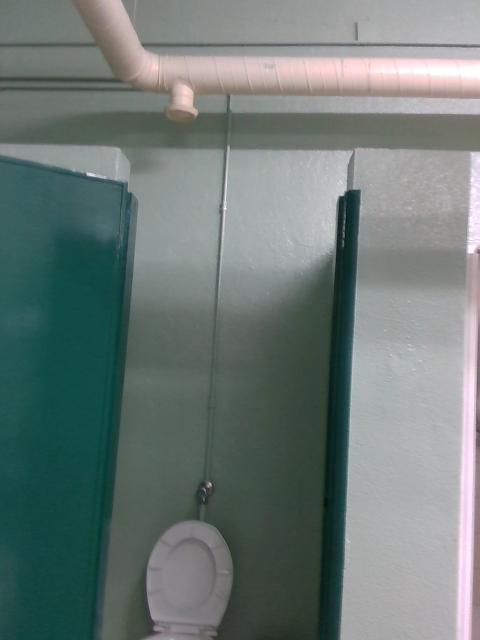open_door: (94, 145, 354, 637)
